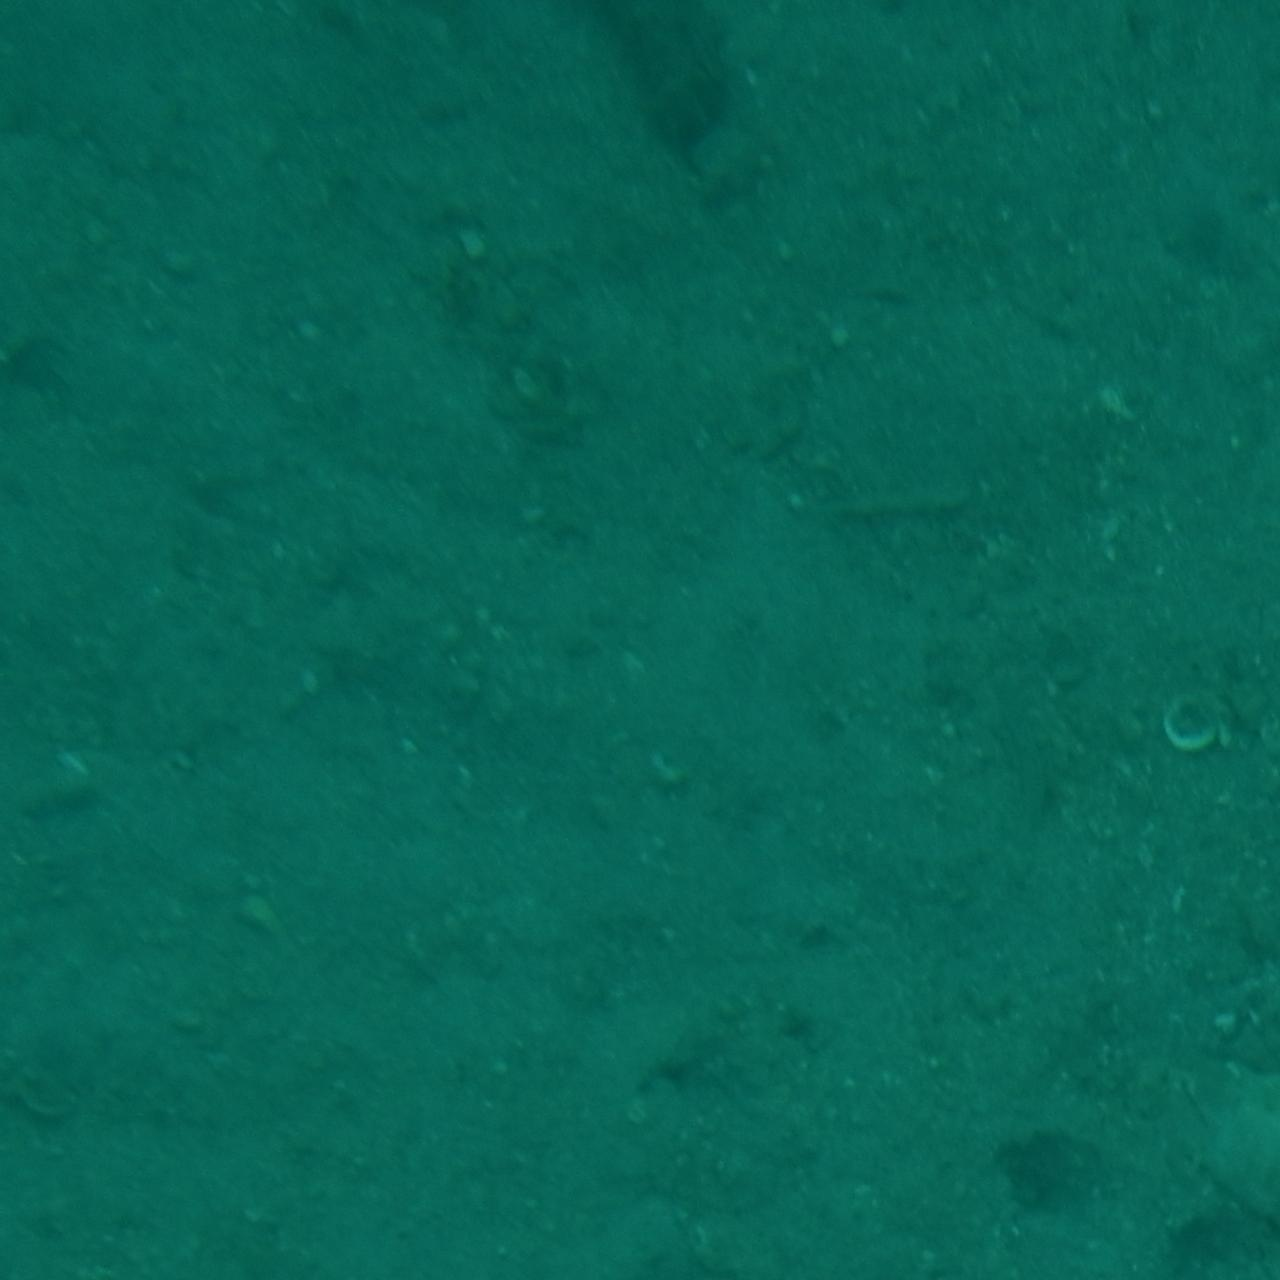Holothuria tubulosa: (541, 0, 739, 182)
